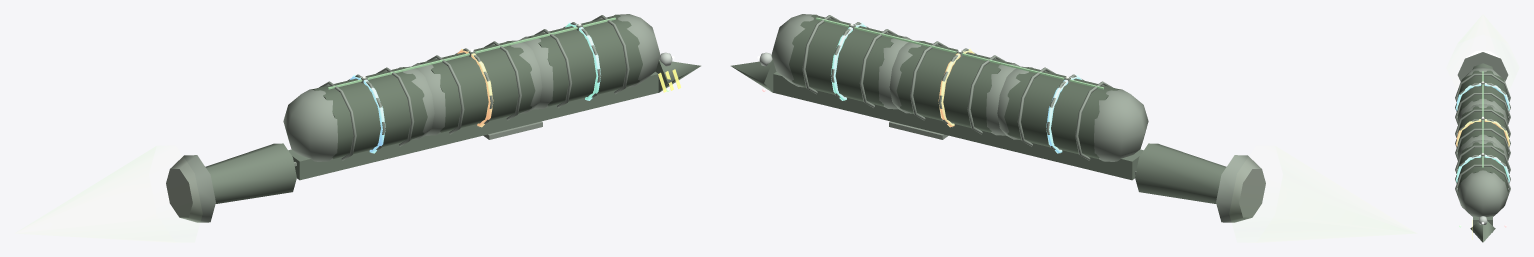
Rendered from CFV_Mule_Tanker.glb.
The picture shows the model from 3 angles, left to right: view 1: azimuth 30°, elevation 25°; view 2: azimuth 150°, elevation 25°; view 3: azimuth 270°, elevation 25°; orthographic projection. The views are drawn at different scales.
Parts seen in each view (by area): view 1: CFV_Mule_Tanker; view 2: CFV_Mule_Tanker; view 3: CFV_Mule_Tanker.
Part boxes in pixels (x1=…): CFV_Mule_Tanker: x1=166, y1=14, x2=700, y2=222; CFV_Mule_Tanker: x1=731, y1=14, x2=1265, y2=222; CFV_Mule_Tanker: x1=1455, y1=50, x2=1510, y2=242.
Bounding box in the file's own units: 19.15 × 3.24 × 2.6.
